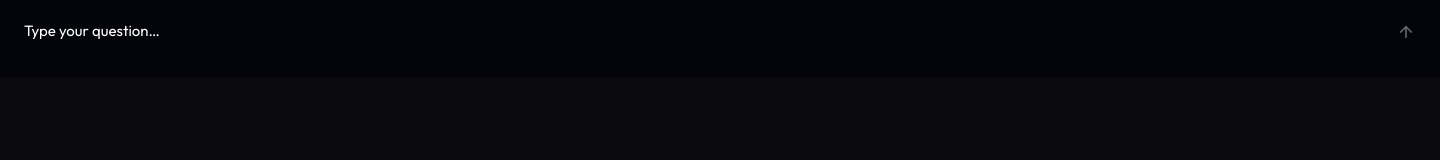
Scenario: Composer with spoken replies › typing still works
In the text box named "Message": {"x": 694, "y": 32} [12,10,1376,54], type "hi"
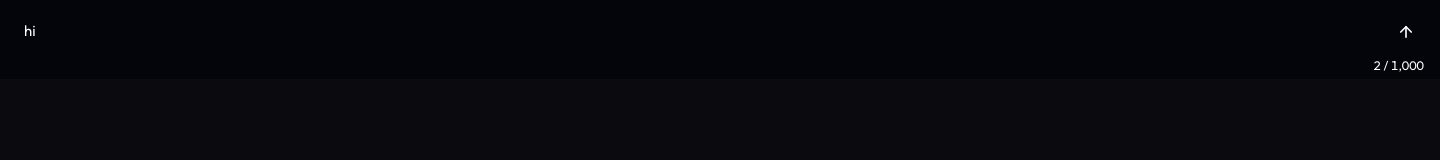
Expected: the button named "Send message" is enabled, [1384,10,1428,54]
